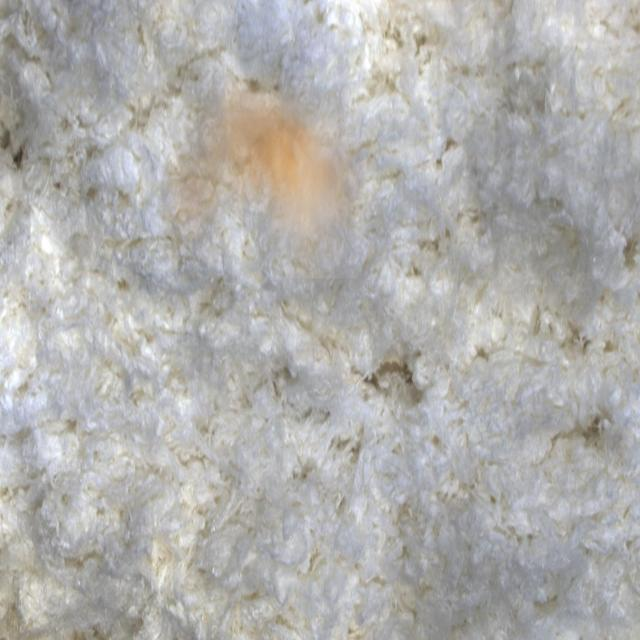dust: (162, 74, 375, 278)
